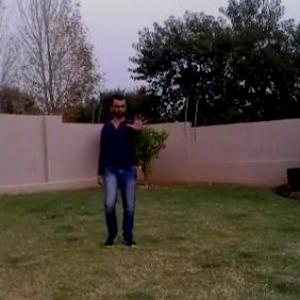follow_hand: (126, 110, 151, 133)
